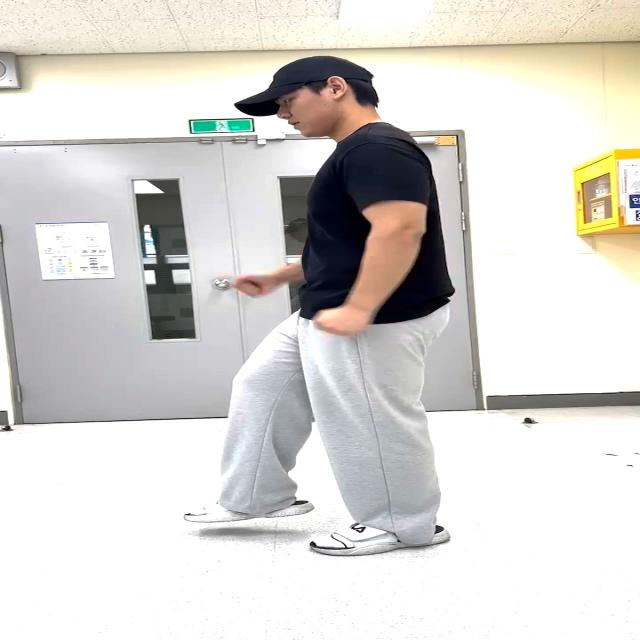leg: (159, 323, 310, 519)
